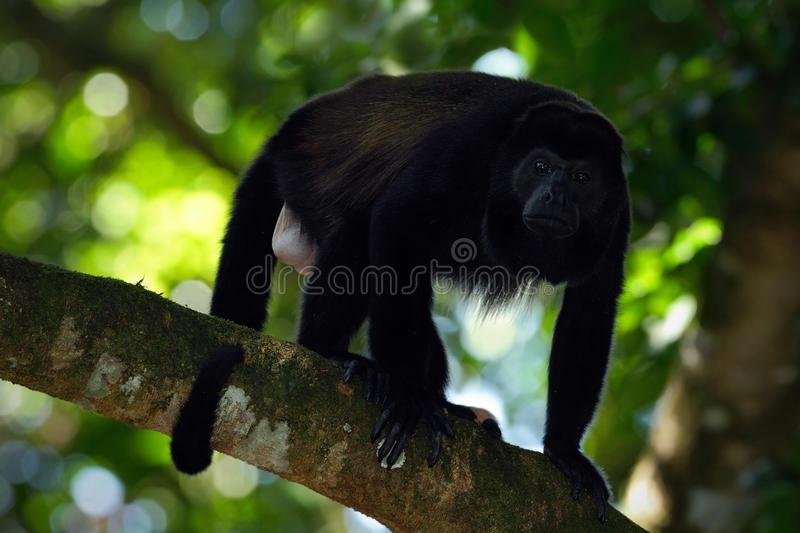monkey: (236, 71, 631, 501)
